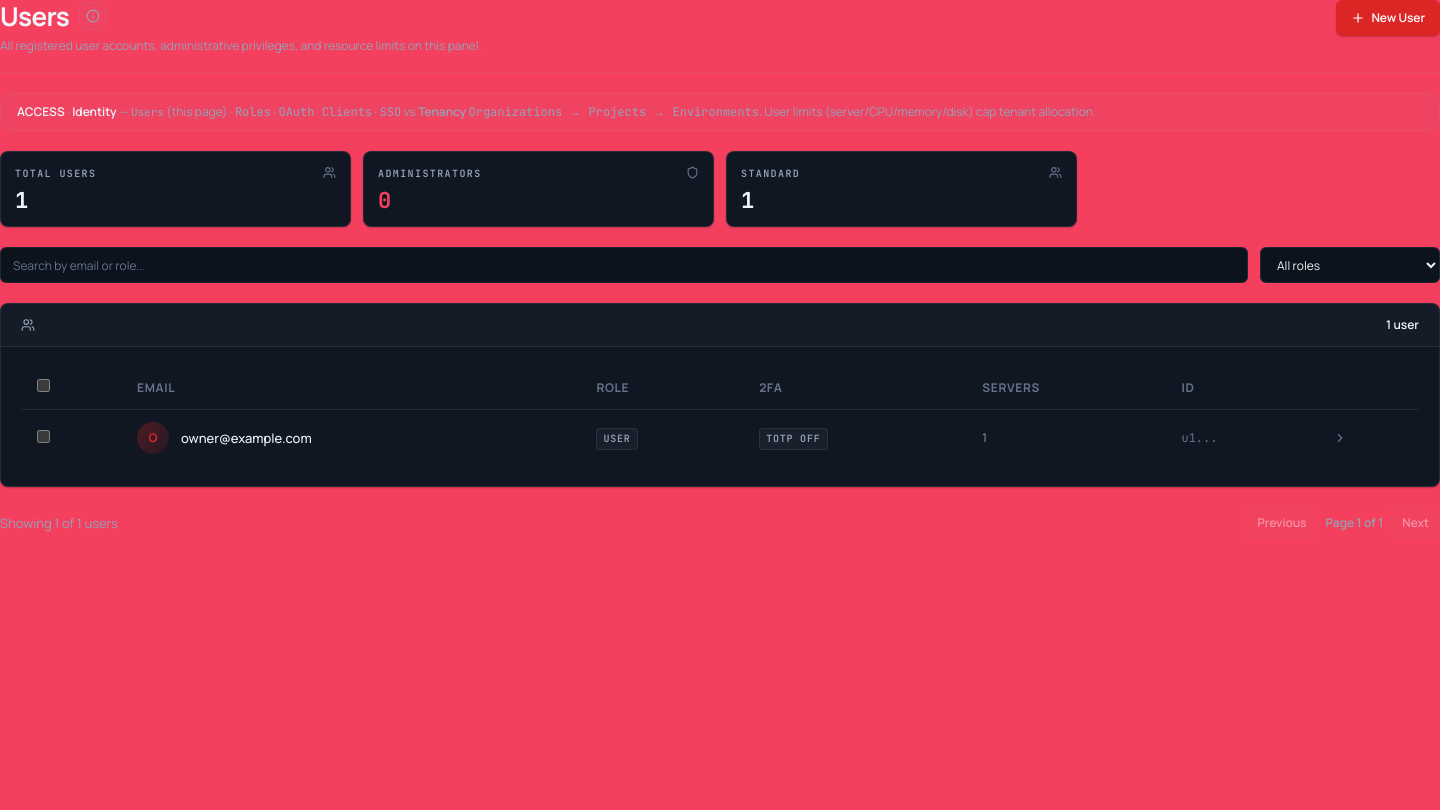
Scenario: admin mutation protections › disables user deletion when the user owns a server
This screenshot has width=1440, height=810.
Click the button "owner@example.com".
click(246, 438)  # box [181,428,312,448]
(page scrolled)
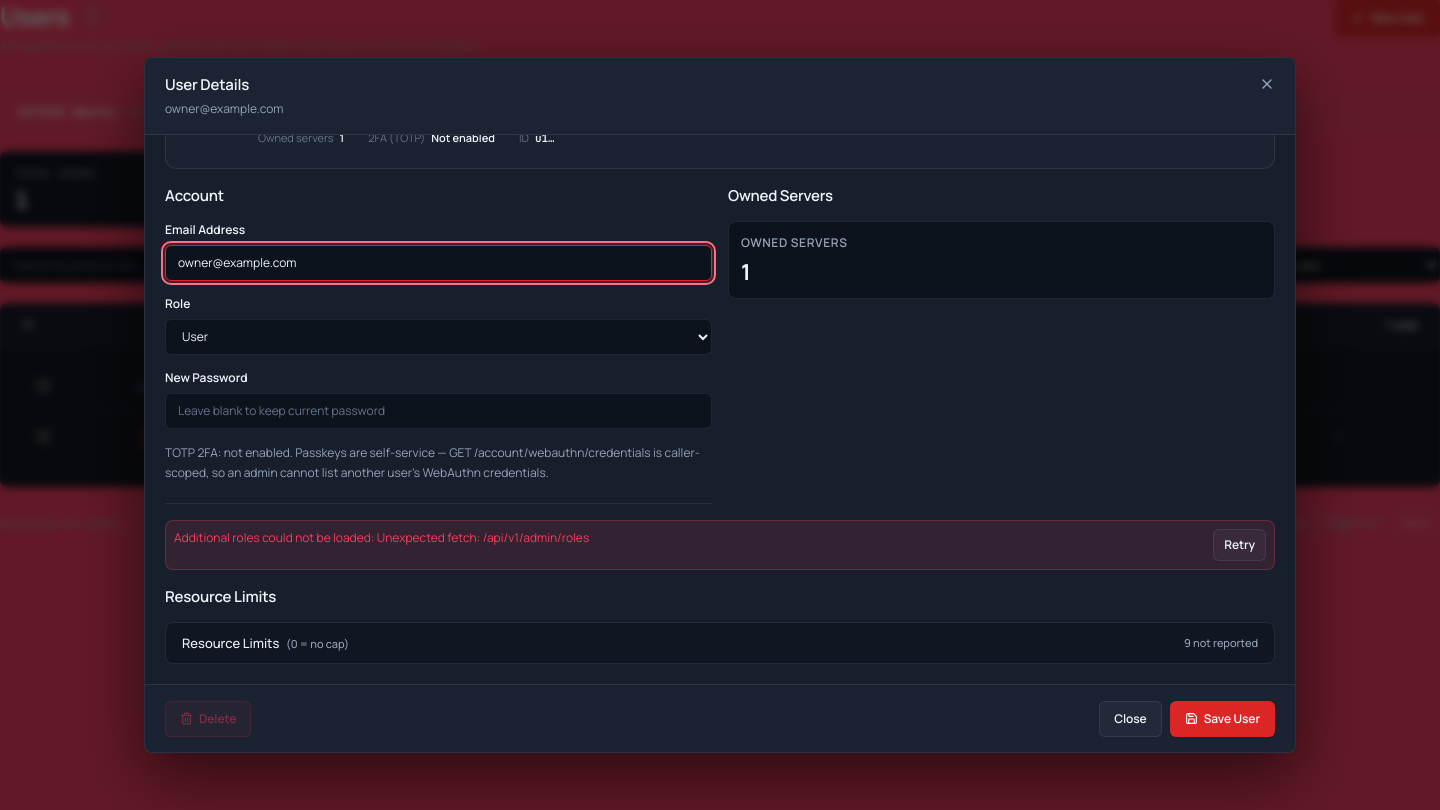
Expected: the 1st text "Owned Servers" is shown, [728,185,833,207]
Expected: the button "Delete" is disabled, [165,701,251,737]
